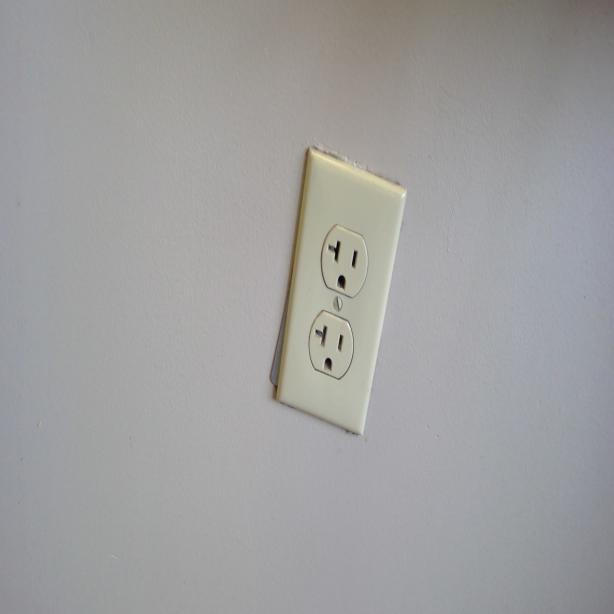typeb: (310, 314, 349, 380), (326, 226, 362, 292)
